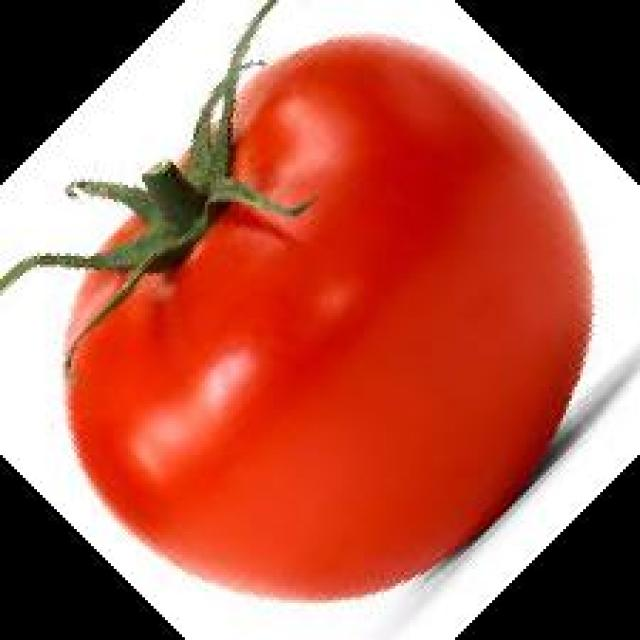ripe tomato: (114, 26, 598, 586)
